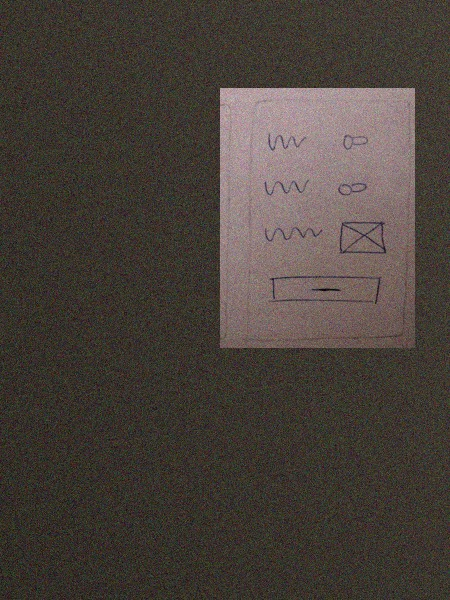button: (263, 273, 385, 308)
image: (335, 218, 390, 257)
switch: (334, 174, 371, 199), (338, 129, 373, 153)
text: (260, 222, 326, 246), (263, 128, 310, 153), (259, 176, 313, 197)
